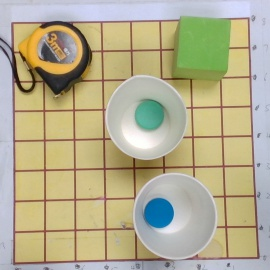cup_blue: (103, 74, 188, 164), (133, 172, 217, 260)
